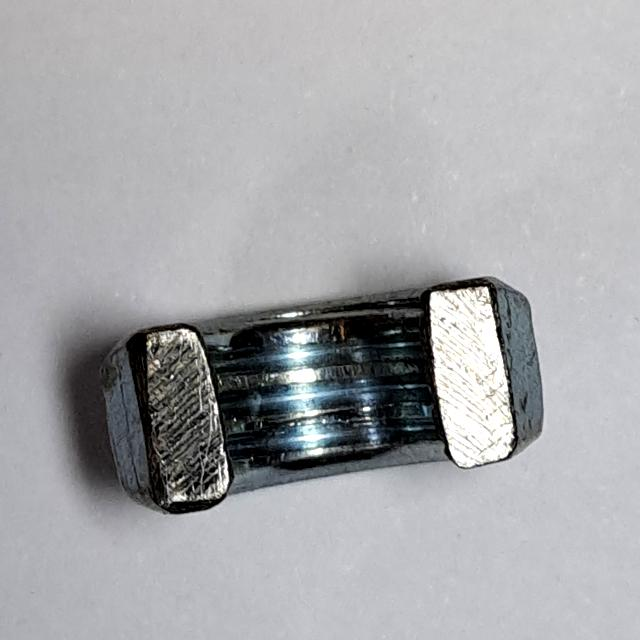Side-Fracture: (87, 256, 566, 537)
